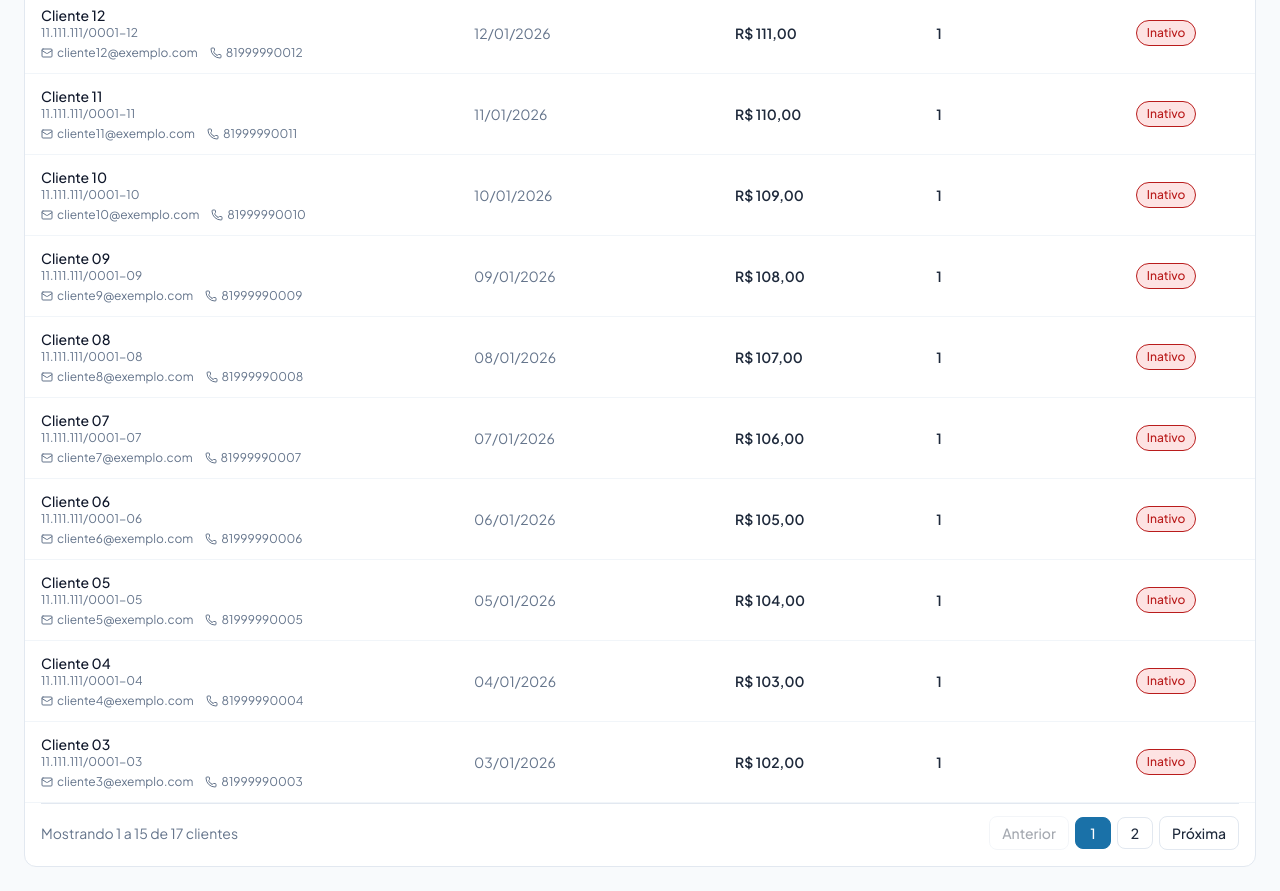
Test: paginacao em Clientes › Proximo leva a segunda pagina, que tem o resto
(page scrolled)
Click the button "Próxima" at (1199, 833), box x1=1159 y1=816 x2=1239 y2=850
(page scrolled)
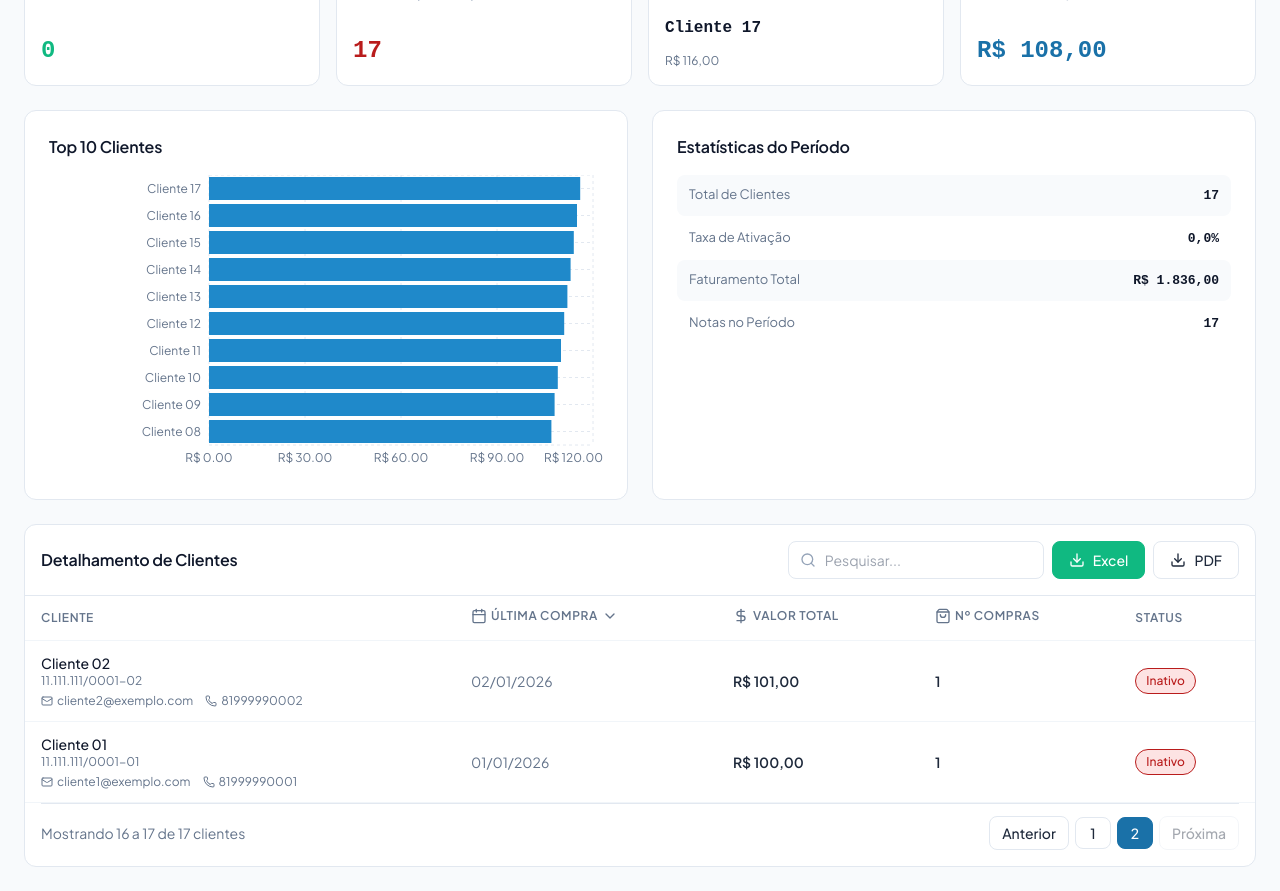
Now the text "Mostrando 16 a 17 de 17 clientes" is shown, box x1=41 y1=823 x2=245 y2=843
